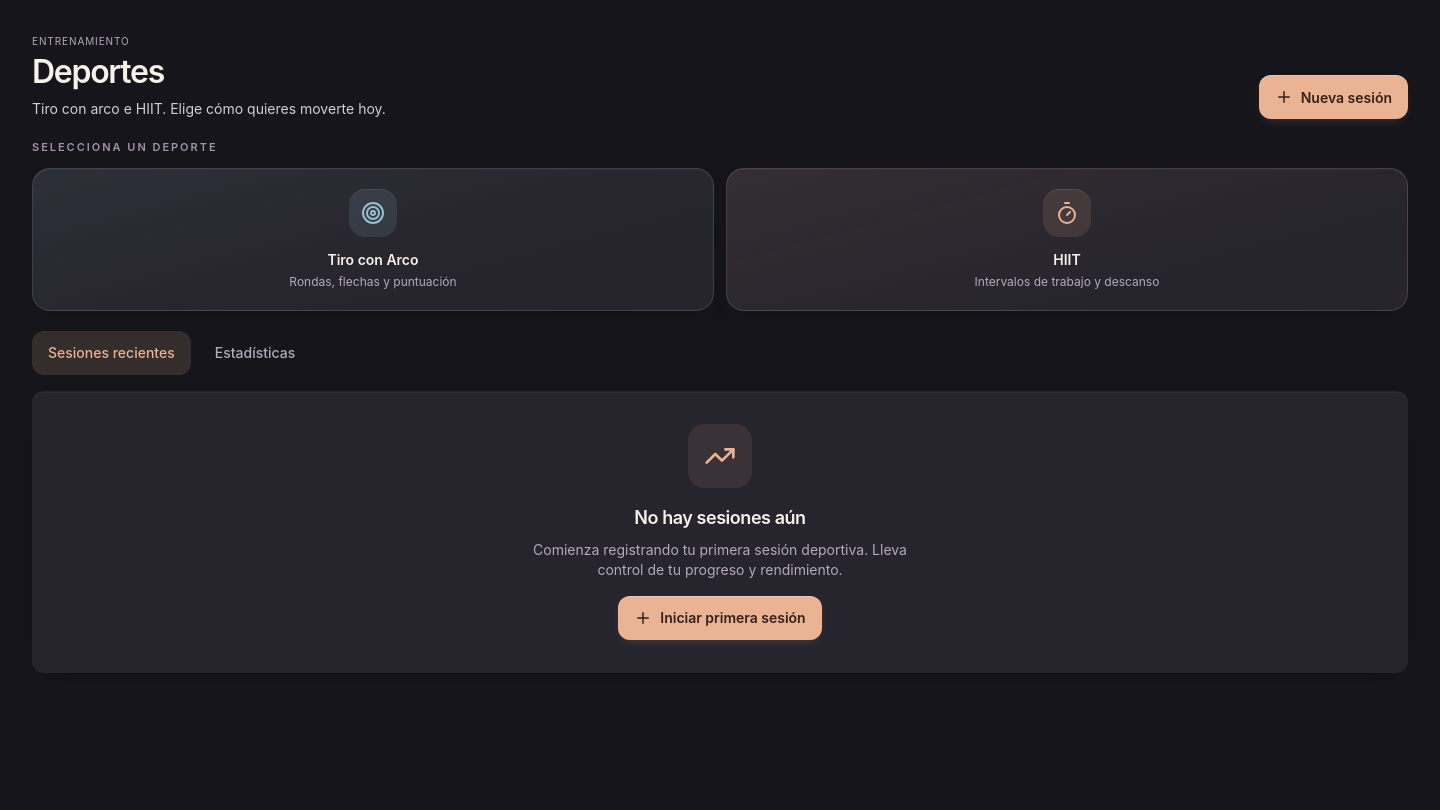
Test: SportsPage › provides a useful empty statistics state and a way to start
The image size is (1440, 810).
Click the button "Estadísticas" at {"x": 255, "y": 353}, box [199, 331, 311, 375]
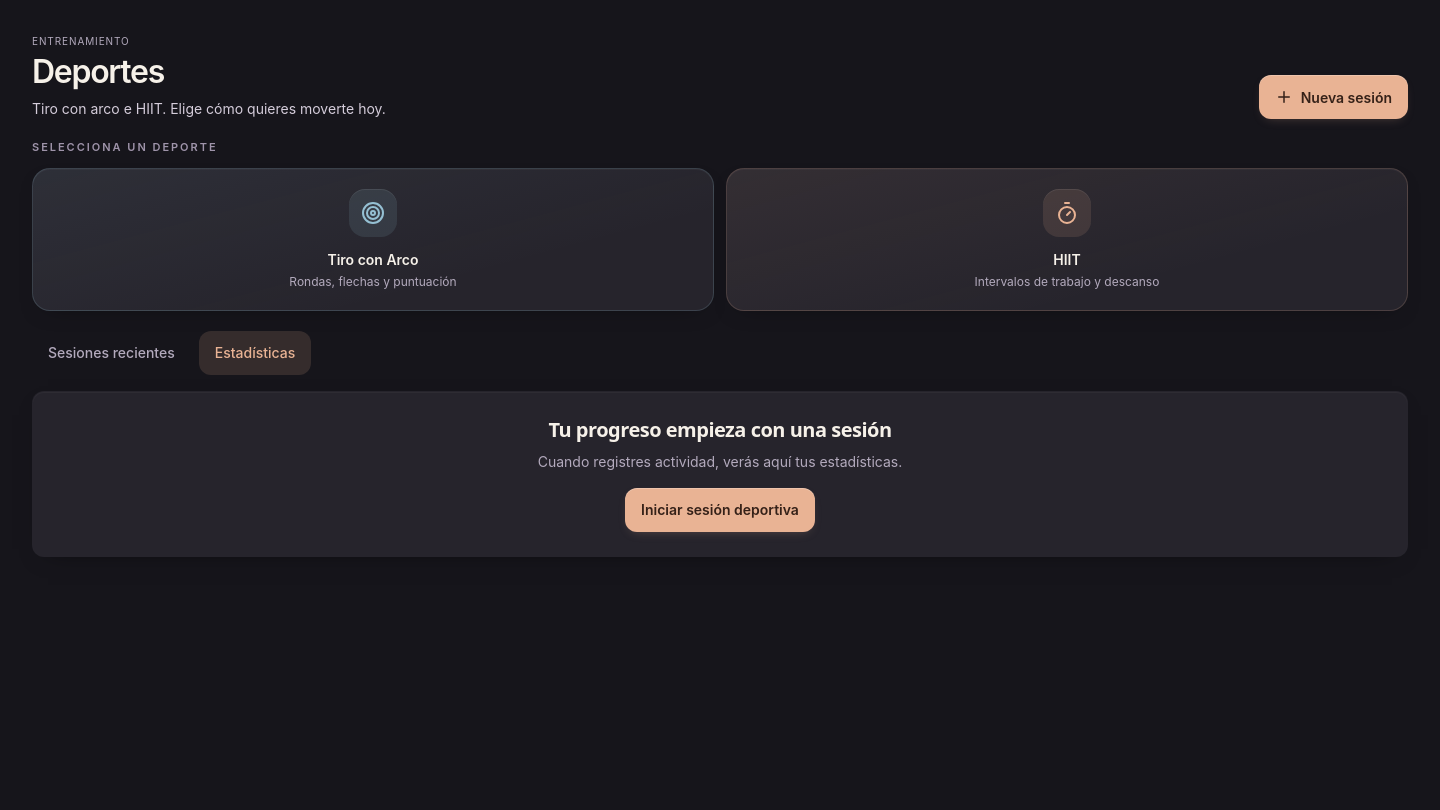
Check: the heading "Tu progreso empieza con una sesión" is shown, box [548, 416, 892, 443]
Click the button "Iniciar sesión deportiva" at {"x": 720, "y": 510}, box [625, 488, 815, 532]
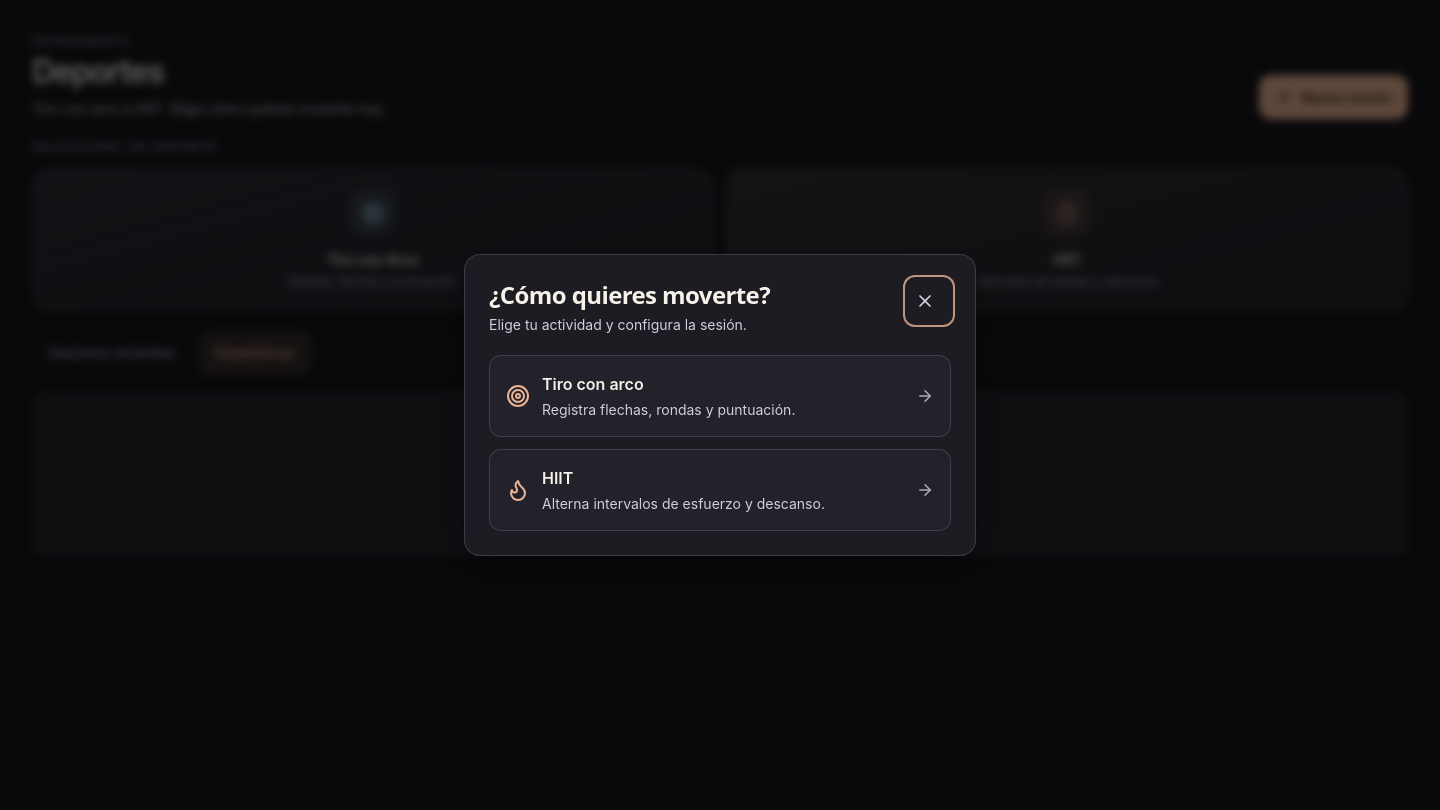
Check: the dialog "¿Cómo quieres moverte?" is shown, box [464, 254, 976, 556]
